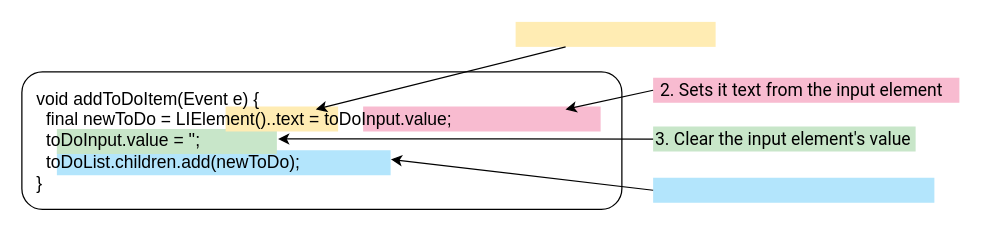
The diagram is 981 pixels wide and 241 high, and some of its shapes have lost their labels. The shapes that lost their labels are listed below. From the top down, each one's centre as x and y in pixels, then its label:
the point at 615,33: 1. Create a new element
the point at 793,189: 4. Puts the new element in the DOM
